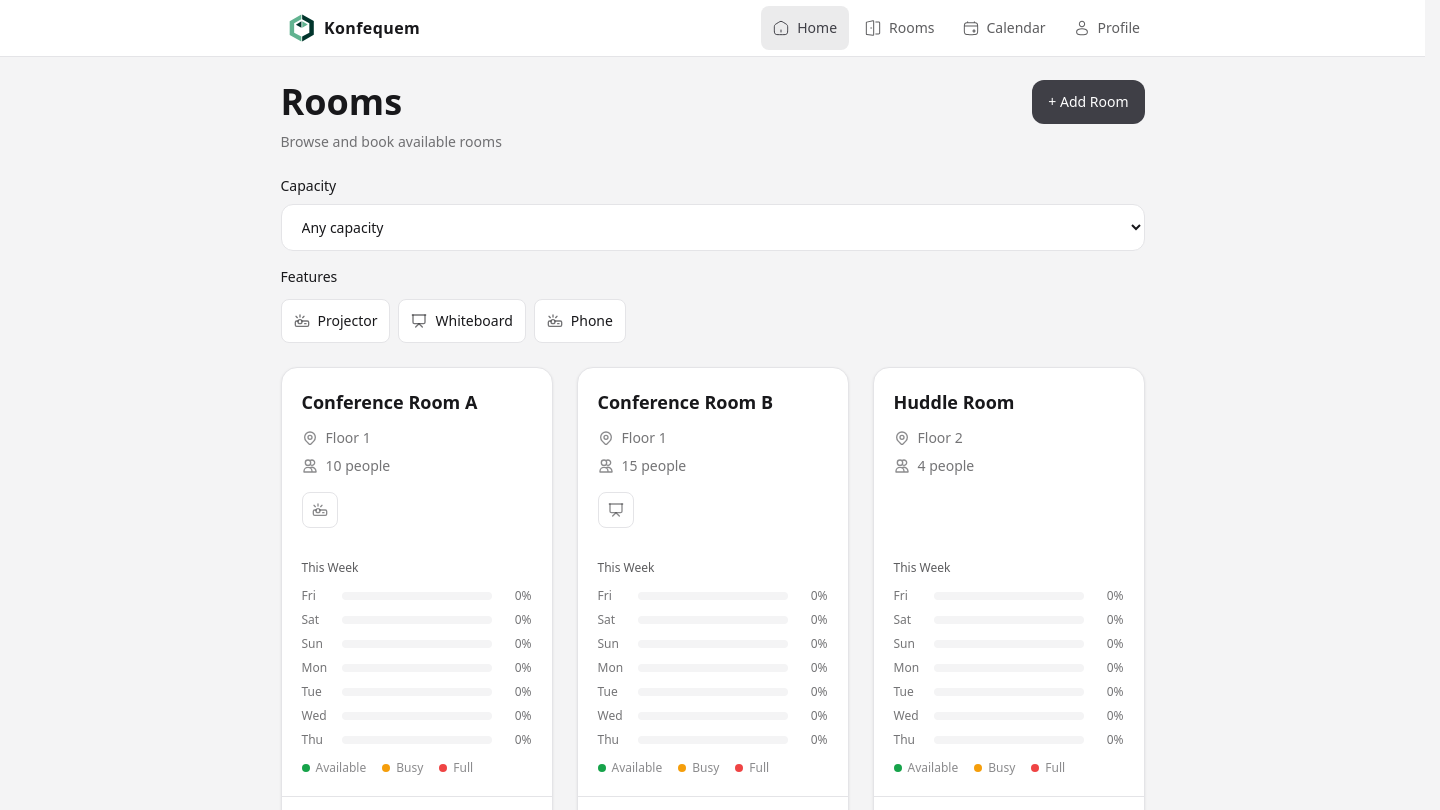
RoomsPage room management › blocks submit on empty form without hitting the API
Expected: the heading "Conference Room A" is shown, [302, 390, 477, 414]
What coordinates should you click on to do the following:
click the button "+ Add Room"
I would click on:
 (1088, 102)
Its box is [1032, 80, 1144, 124].
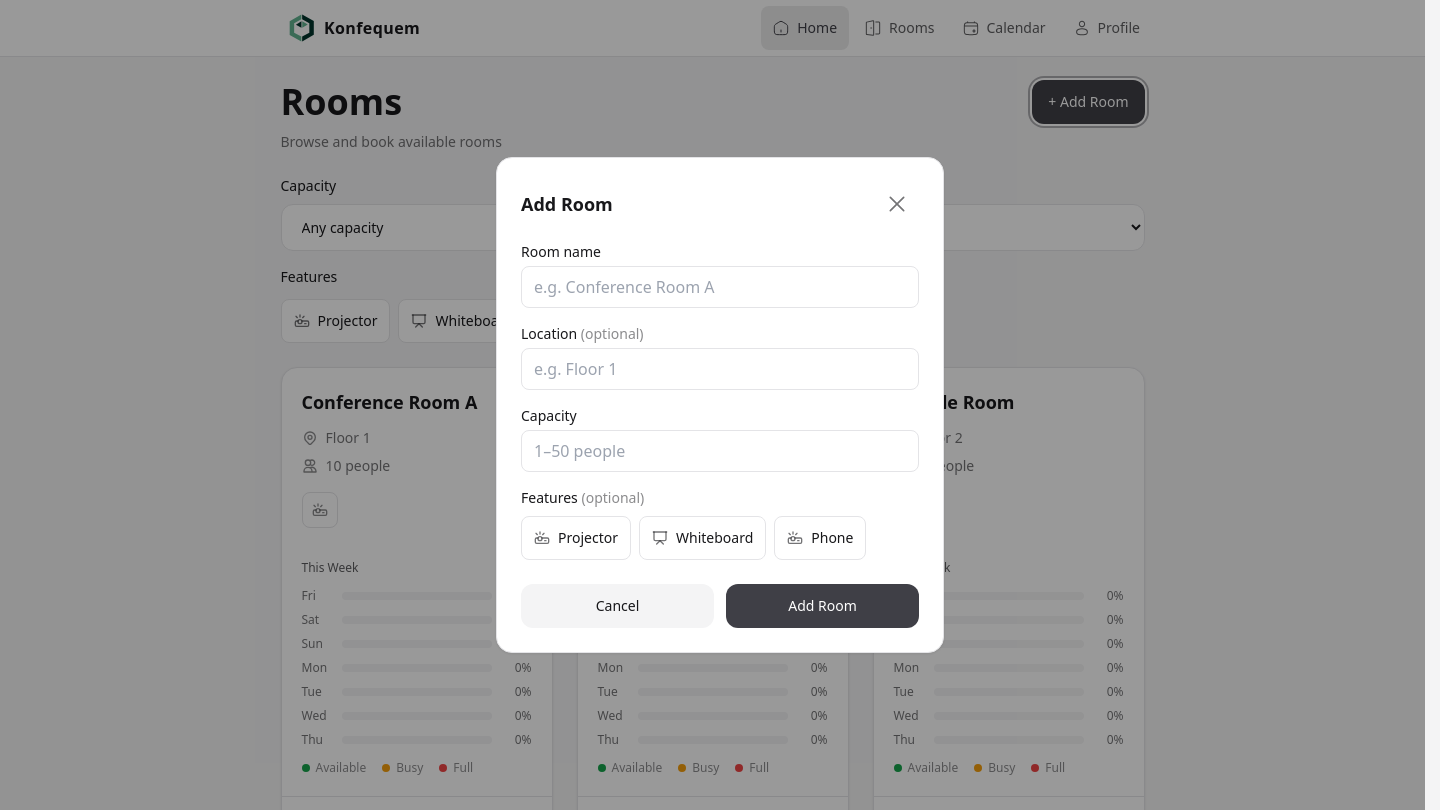
What coordinates should you click on to do the following:
click the button "Add Room"
I would click on:
 (822, 606)
Its box is [726, 584, 919, 628].
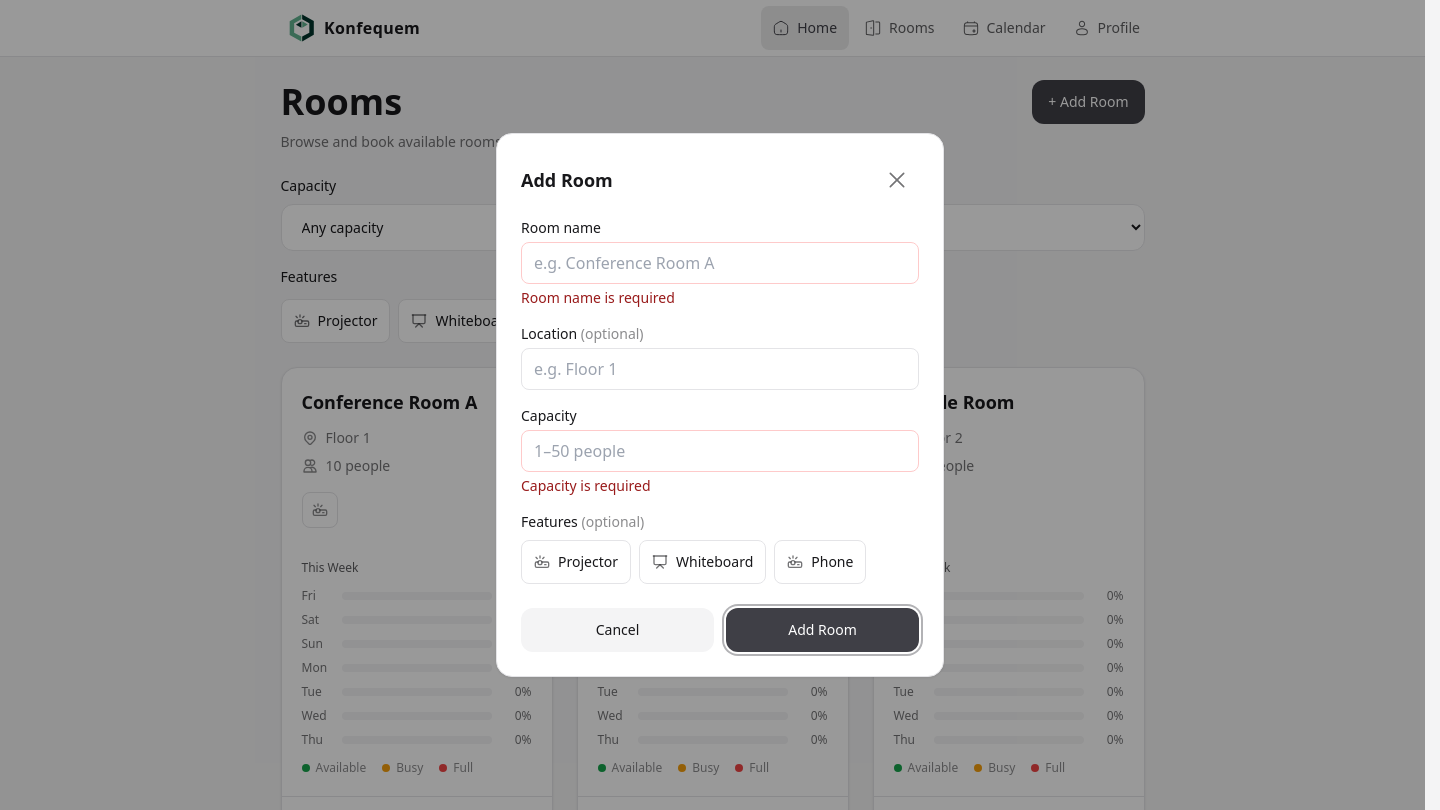
Result: the text "Room name is required" is shown at [521, 288, 675, 307]
Result: the text "Capacity is required" is shown at [521, 476, 651, 495]
